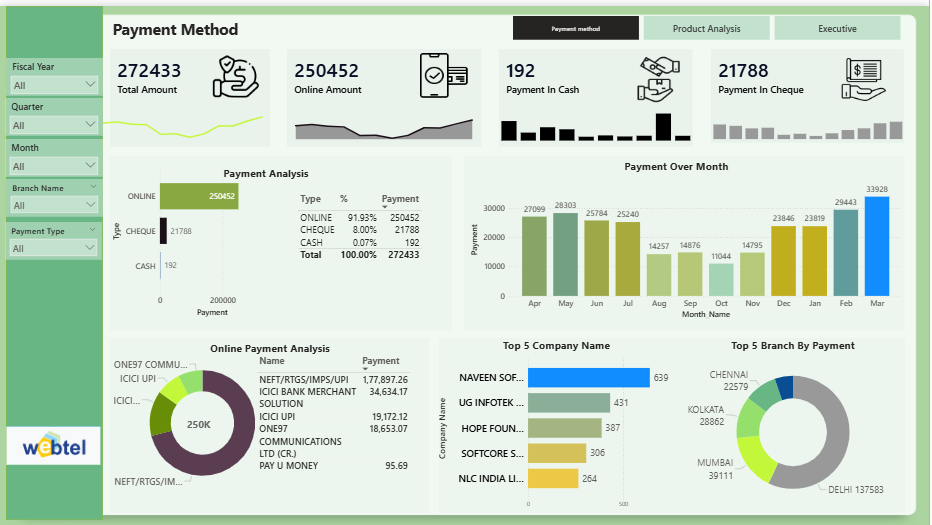

The page's visual inventory and layout, read from the dashboard file:
{"tool":"powerbi","page":{"name":"Overview","canvas":[1920,1080],"ordinal":1},"visuals":[{"type":"slicer","fields":{"Values":["Dates.Fiscal Year"]},"box":[14.5,107.4,200.3,78.5],"z":0,"group":"g1"},{"type":"shape","box":[229.2,309.7,706.1,361.3],"z":0},{"type":"slicer","fields":{"Values":["Dates.Month_Name"]},"box":[12.4,277,202.3,78.5],"z":1000,"group":"g1"},{"type":"shape","box":[960,309.7,910.5,361.3],"z":1000},{"type":"PBI_CV_7B952816_A48F_49B4_9E13_15E3BB2C0337","fields":{"Values":["Table.TotalPayment"]},"box":[229.2,88.8,330.3,202.3],"z":2000},{"type":"slicer","fields":{"Values":["Dates.Quarter"]},"box":[12.4,192.2,202.3,78.5],"z":2000,"group":"g1"},{"type":"lineChart","fields":{"Y":["Table.TotalPayment"],"Category":["Dates.Month_Name"]},"box":[222.5,205.2,337,73.4],"z":3000},{"type":"slicer","fields":{"Values":["DataSheet.BranchName"]},"box":[14.5,361.9,200.3,78.5],"z":3000,"group":"g1"},{"type":"image","box":[431.5,92.9,115.6,105.3],"z":4000},{"type":"slicer","fields":{"Values":["DataSheet.PaymentM"]},"box":[12.4,446.7,200.3,78.5],"z":4000,"group":"g1"},{"type":"PBI_CV_7B952816_A48F_49B4_9E13_15E3BB2C0337","fields":{"Values":["Table.Total_Payemtsonline"]},"box":[594.6,88.8,400.5,202.3],"z":5000},{"type":"slicer","fields":{"Values":["DataSheet.ProductName"]},"box":[14.6,530.8,198.7,77.8],"z":5000,"group":"g1"},{"type":"stackedAreaChart","fields":{"Y":["Table.Total_Payemtsonline"],"Category":["Dates.Month_Name"]},"box":[594.6,204.1,400.6,75.6],"z":6000},{"type":"slicer","fields":{"Values":["DataSheet.ExecutiveName"]},"box":[15.1,615.6,198.7,84.2],"z":6000,"group":"g1"},{"type":"image","box":[860.9,90.8,115,105],"z":7000},{"type":"PBI_CV_7B952816_A48F_49B4_9E13_15E3BB2C0337","fields":{"Values":["Table.Total_Payment_Cash"]},"box":[1032.5,88.6,399.6,200.9],"z":8000},{"type":"image","box":[1304.8,99.1,113.5,105.3],"z":9000},{"type":"columnChart","fields":{"Y":["Table.Total_Payment_Cash"],"Category":["Dates.Month_Name"]},"box":[1033.1,199.1,400.6,85.7],"z":10000},{"type":"PBI_CV_7B952816_A48F_49B4_9E13_15E3BB2C0337","fields":{"Values":["Table.Total_Payment_CHEQUE"]},"box":[1469.9,88.8,398.5,194.1],"z":11000},{"type":"image","box":[1728,99.1,115.6,105.3],"z":12000},{"type":"clusteredColumnChart","fields":{"Category":["Dates.Month_Name"],"Y":["Table.Total_Payment_CHEQUE"]},"box":[1469.9,214.7,400.5,66.1],"z":13000},{"type":"barChart","fields":{"Category":["DataSheet.PaymentM"],"Y":["Table.TotalPayment"]},"box":[229,337,401.8,321.8],"z":14000},{"type":"tableEx","fields":{"Values":["DataSheet.PaymentM","Table.Payment Share %","Table.TotalPayment"]},"box":[630.7,380.2,306.7,207.4],"z":15000},{"type":"textbox","box":[214.7,324.1,673,57.8],"z":16000},{"type":"shape","box":[229.2,685.4,658.6,361.3],"z":17000},{"type":"donutChart","fields":{"Y":["Table.Total_Payemtsonline"],"Category":["DataSheet.BankName"]},"box":[229,697.7,382.3,362.9],"z":18000},{"type":"tableEx","fields":{"Values":["DataSheet.BankName","Table.Total_Payemtsonline"]},"box":[553,732.2,334.8,291.6],"z":19000},{"type":"textbox","box":[258.1,685.4,602.8,47.5],"z":21000},{"type":"clusteredColumnChart","fields":{"Category":["Dates.Month_Name"],"Y":["Table.TotalPayment"]},"box":[968.1,353.5,901.3,298.5],"z":22000},{"type":"textbox","box":[995.1,324.1,807.2,57.8],"z":23000},{"type":"shape","box":[908.4,685.4,962.1,361.3],"z":24000},{"type":"clusteredBarChart","title":"Top 5 Company Name","fields":{"Category":["DataSheet.CompanyName"],"Y":["Table.TotalPayment"]},"box":[902.2,685.4,497.5,361.3],"z":25000},{"type":"donutChart","title":"Top 5 Branch By Amount","fields":{"Category":["DataSheet.BranchName"],"Y":["Table.TotalPayment"]},"box":[1416.3,685.4,445.9,361.3],"z":26000},{"type":"textbox","box":[229.2,20.6,450.1,68.1],"z":27000},{"type":"shape","box":[14.5,0,200.3,1061.2],"z":28000},{"type":"pageNavigator","box":[1061.2,20.6,801,49.5],"z":29000},{"type":"image","box":[10.3,770.1,204.4,274.6],"z":30000},{"type":"group","id":"g1","title":"Group 1","box":[12.4,107.4,202.3,592.5],"z":31000},{"type":"textbox","box":[1669.7,1034.6,224.6,45.4],"z":32000}]}

Visuals, with their boxes in screenshot pixels (x1, y1, x2, y2), scaled from the page's 1920x1080 canvas onto the 932x525 screenshot:
slicer - Dates.Fiscal Year: bbox(7, 52, 104, 90)
shape: bbox(111, 151, 454, 326)
slicer - Dates.Month_Name: bbox(6, 135, 104, 173)
shape: bbox(466, 151, 908, 326)
PBI_CV_7B952816_A48F_49B4_9E13_15E3BB2C0337 - Table.TotalPayment: bbox(111, 43, 272, 142)
slicer - Dates.Quarter: bbox(6, 93, 104, 132)
lineChart - Table.TotalPayment x Dates.Month_Name: bbox(108, 100, 272, 135)
slicer - DataSheet.BranchName: bbox(7, 176, 104, 214)
image: bbox(209, 45, 266, 96)
slicer - DataSheet.PaymentM: bbox(6, 217, 103, 255)
PBI_CV_7B952816_A48F_49B4_9E13_15E3BB2C0337 - Table.Total_Payemtsonline: bbox(289, 43, 483, 142)
slicer - DataSheet.ProductName: bbox(7, 258, 104, 296)
stackedAreaChart - Table.Total_Payemtsonline x Dates.Month_Name: bbox(289, 99, 483, 136)
slicer - DataSheet.ExecutiveName: bbox(7, 299, 104, 340)
image: bbox(418, 44, 474, 95)
PBI_CV_7B952816_A48F_49B4_9E13_15E3BB2C0337 - Table.Total_Payment_Cash: bbox(501, 43, 695, 141)
image: bbox(633, 48, 688, 99)
columnChart - Table.Total_Payment_Cash x Dates.Month_Name: bbox(501, 97, 696, 138)
PBI_CV_7B952816_A48F_49B4_9E13_15E3BB2C0337 - Table.Total_Payment_CHEQUE: bbox(714, 43, 907, 138)
image: bbox(839, 48, 895, 99)
clusteredColumnChart - Dates.Month_Name x Table.Total_Payment_CHEQUE: bbox(714, 104, 908, 136)
barChart - DataSheet.PaymentM x Table.TotalPayment: bbox(111, 164, 306, 320)
tableEx - DataSheet.PaymentM x Table.Payment Share %: bbox(306, 185, 455, 286)
textbox: bbox(104, 158, 431, 186)
shape: bbox(111, 333, 431, 509)
donutChart - Table.Total_Payemtsonline x DataSheet.BankName: bbox(111, 339, 297, 516)
tableEx - DataSheet.BankName x Table.Total_Payemtsonline: bbox(268, 356, 431, 498)
textbox: bbox(125, 333, 418, 356)
clusteredColumnChart - Dates.Month_Name x Table.TotalPayment: bbox(470, 172, 907, 317)
textbox: bbox(483, 158, 875, 186)
shape: bbox(441, 333, 908, 509)
"Top 5 Company Name" clusteredBarChart: bbox(438, 333, 679, 509)
"Top 5 Branch By Amount" donutChart: bbox(687, 333, 904, 509)
textbox: bbox(111, 10, 330, 43)
shape: bbox(7, 0, 104, 516)
pageNavigator: bbox(515, 10, 904, 34)
image: bbox(5, 374, 104, 508)
"Group 1" group: bbox(6, 52, 104, 340)
textbox: bbox(811, 503, 920, 524)
